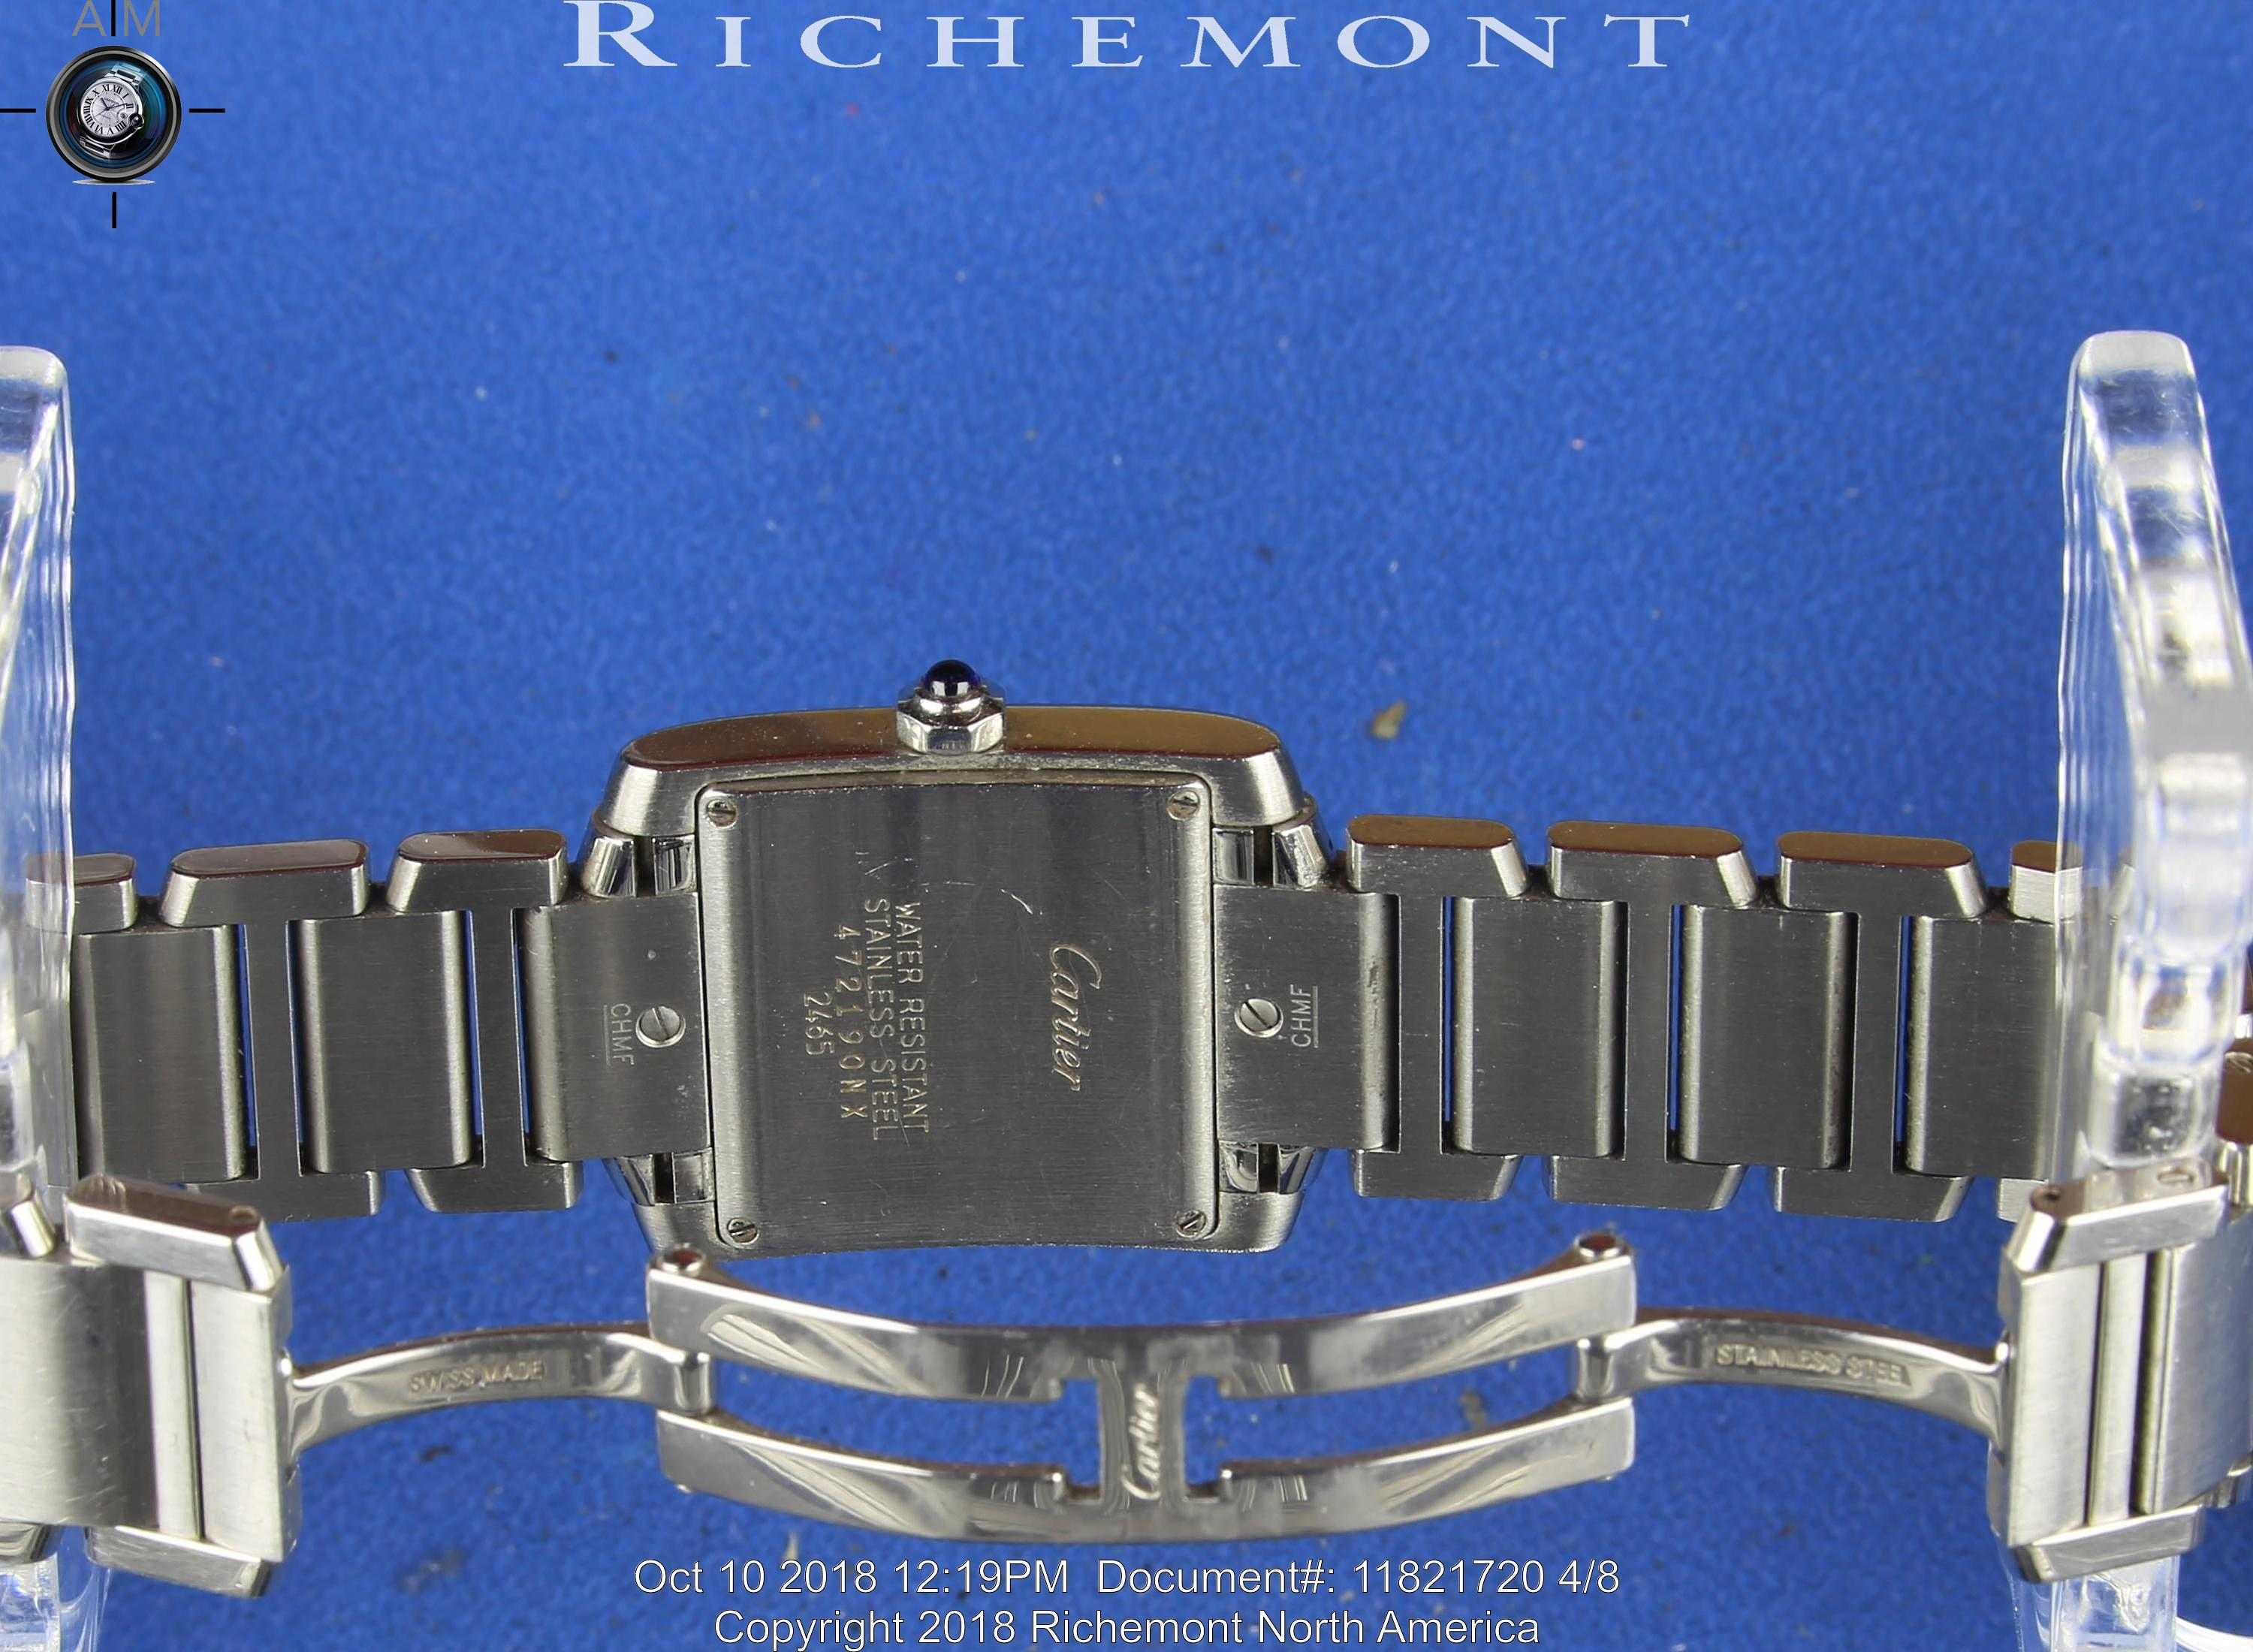watchback: (686, 771, 1219, 1238)
